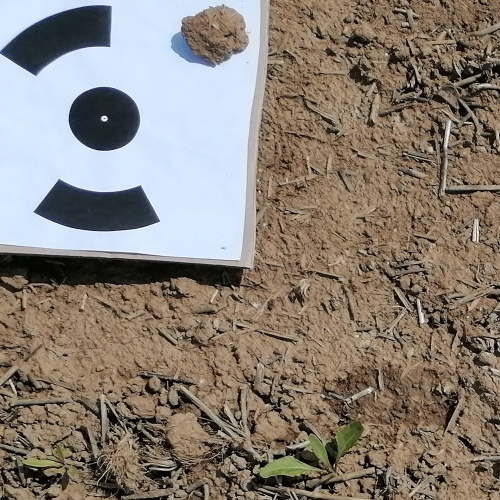beet: (254, 419, 364, 478), (22, 445, 83, 481)
